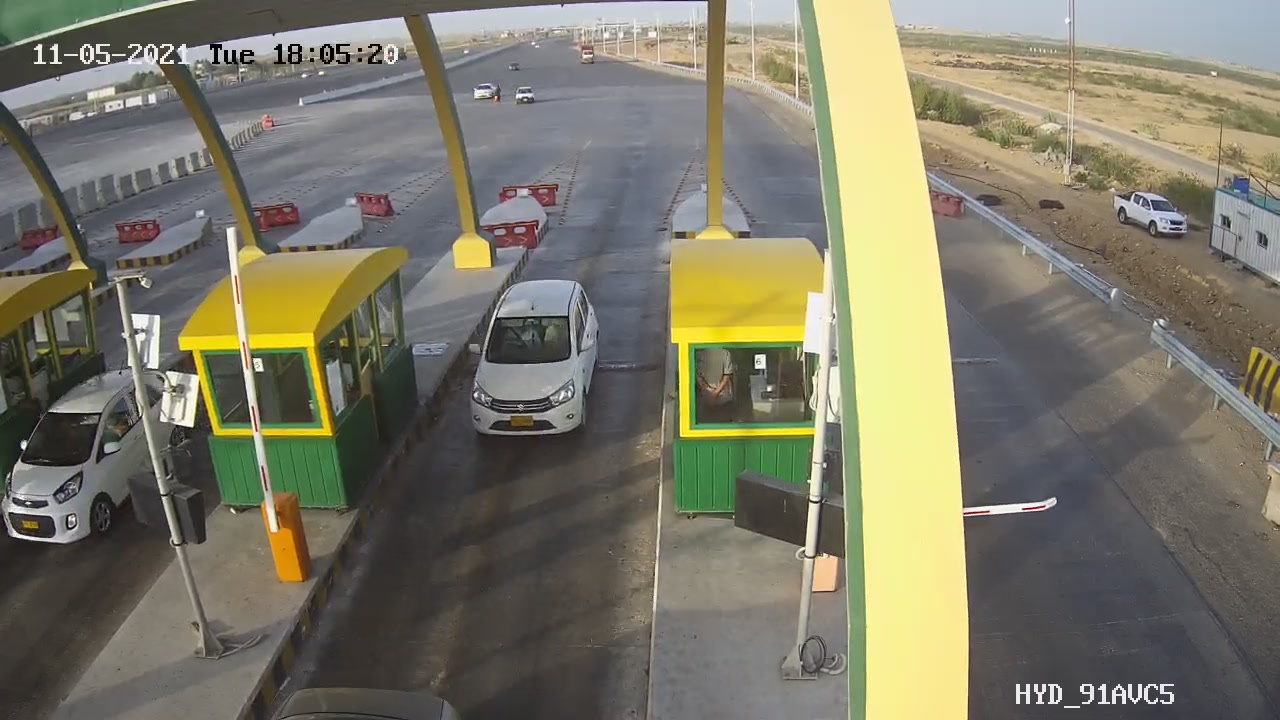F1: (451, 272, 617, 470)
